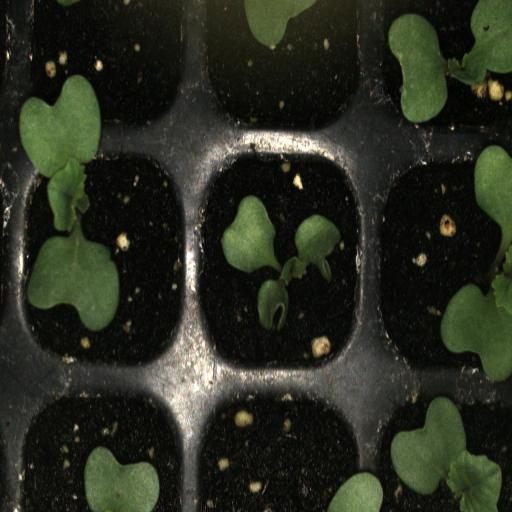Folha: (258, 214, 340, 328), (179, 0, 316, 50), (84, 446, 160, 512), (221, 195, 278, 273)
Germinacao: (190, 131, 374, 379), (11, 129, 190, 375), (373, 127, 512, 379), (371, 379, 512, 512), (376, 0, 512, 130)
